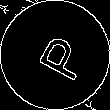P_NW: (24, 27, 86, 83)
